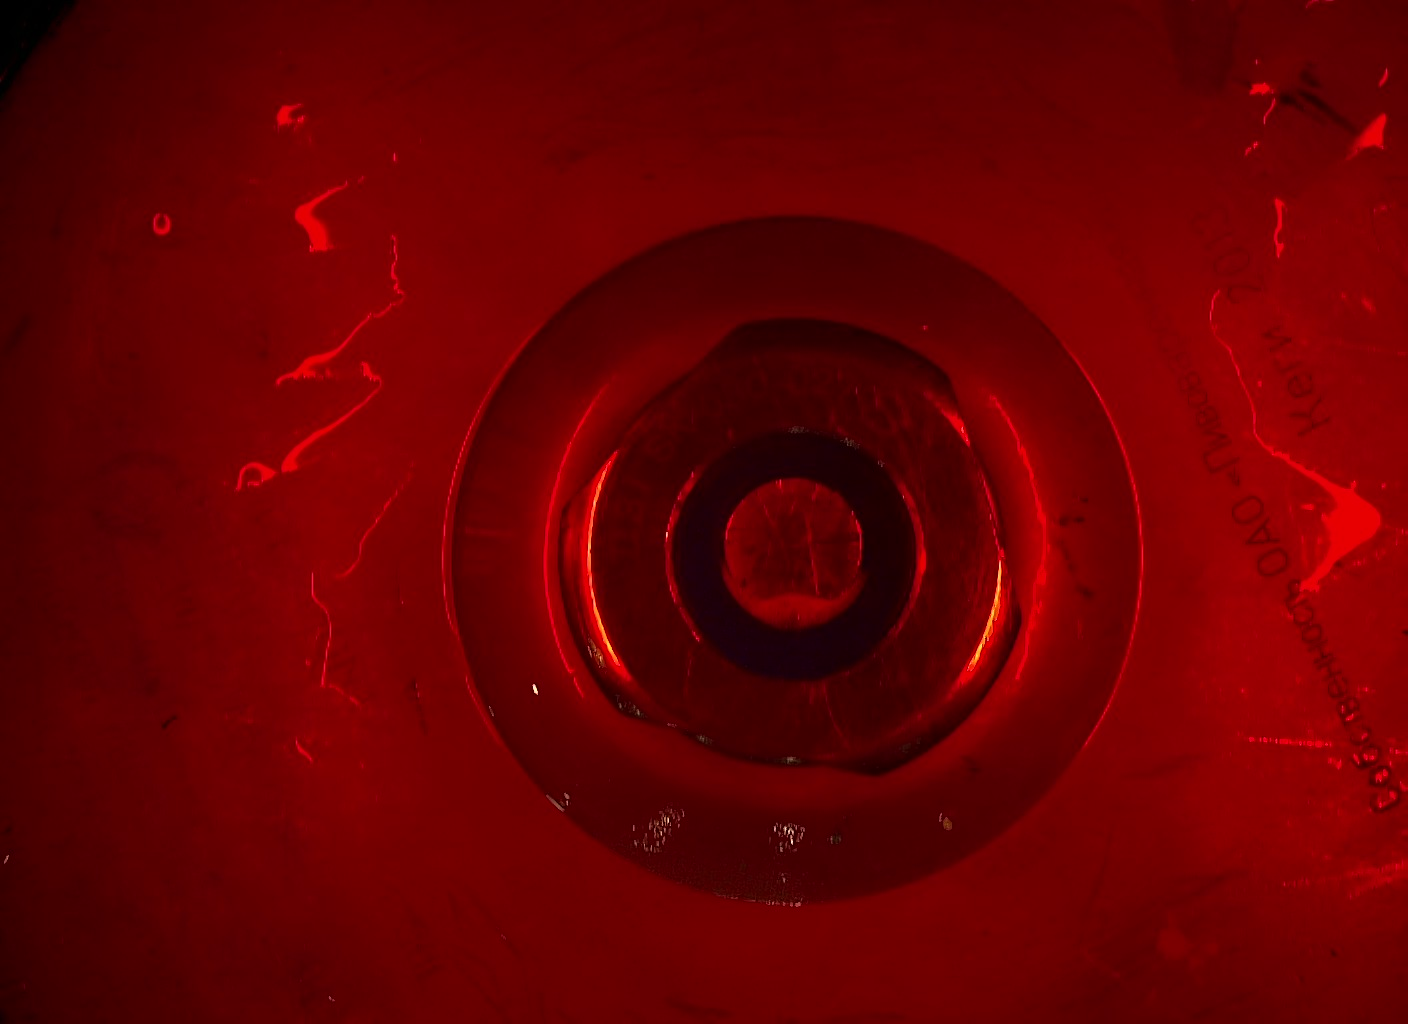pena: (716, 560, 869, 635)
